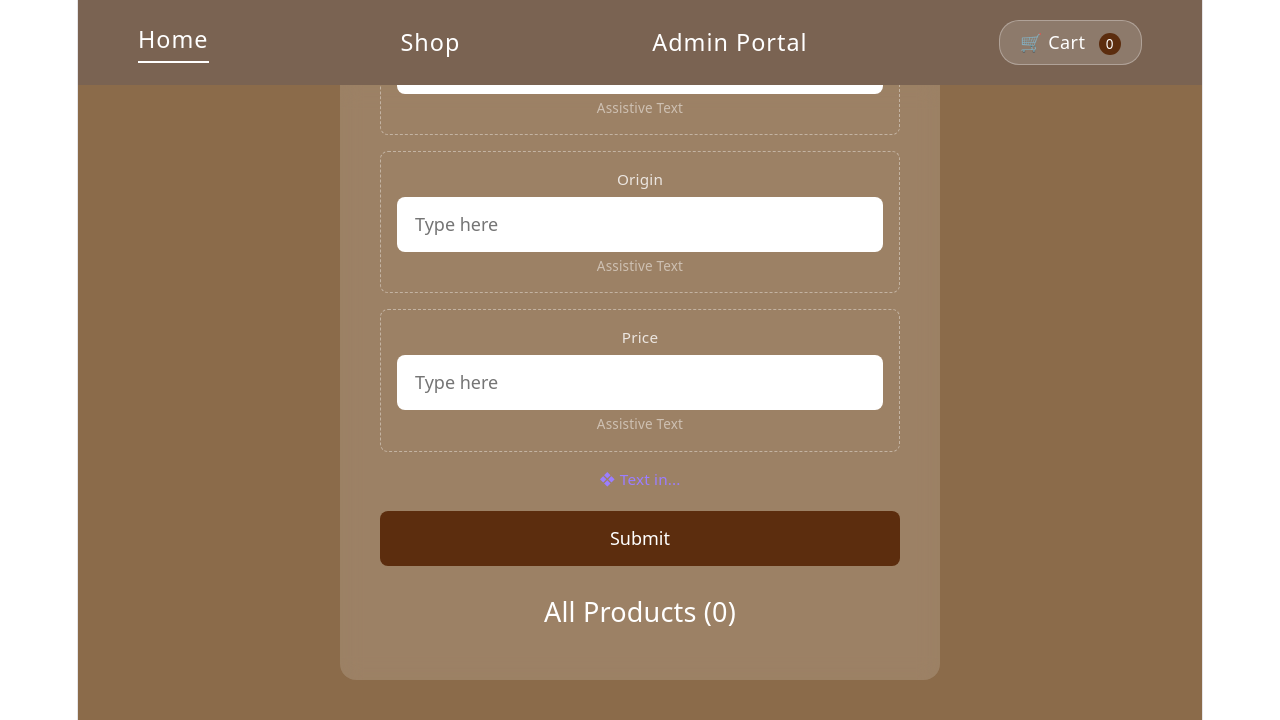
Test: AdminPortal › shows validation errors when submitting empty form
(page scrolled)
Click the button "Submit" at (640,538), box [380,511,900,566]
(page scrolled)
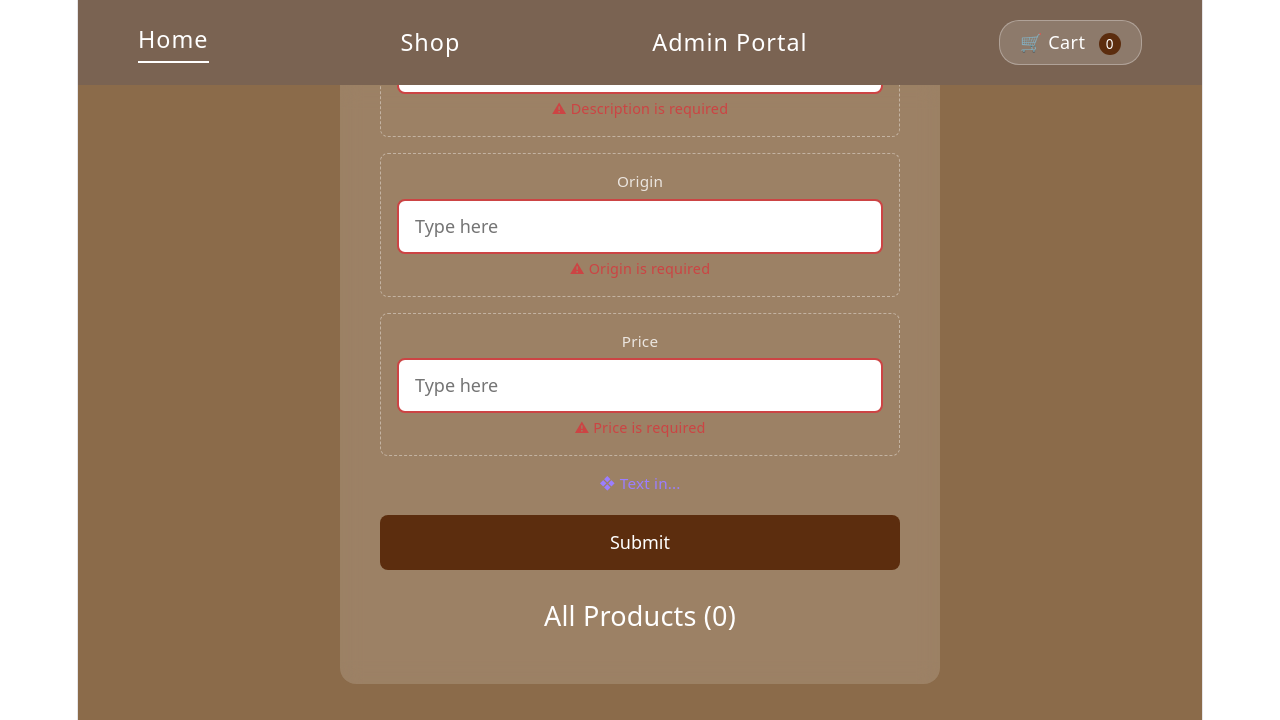
Result: the text "⚠ Description is required" is shown at [552,99,728,118]
Result: the text "⚠ Origin is required" is shown at [570,259,710,278]
Result: the text "⚠ Price is required" is shown at [574,418,706,438]
